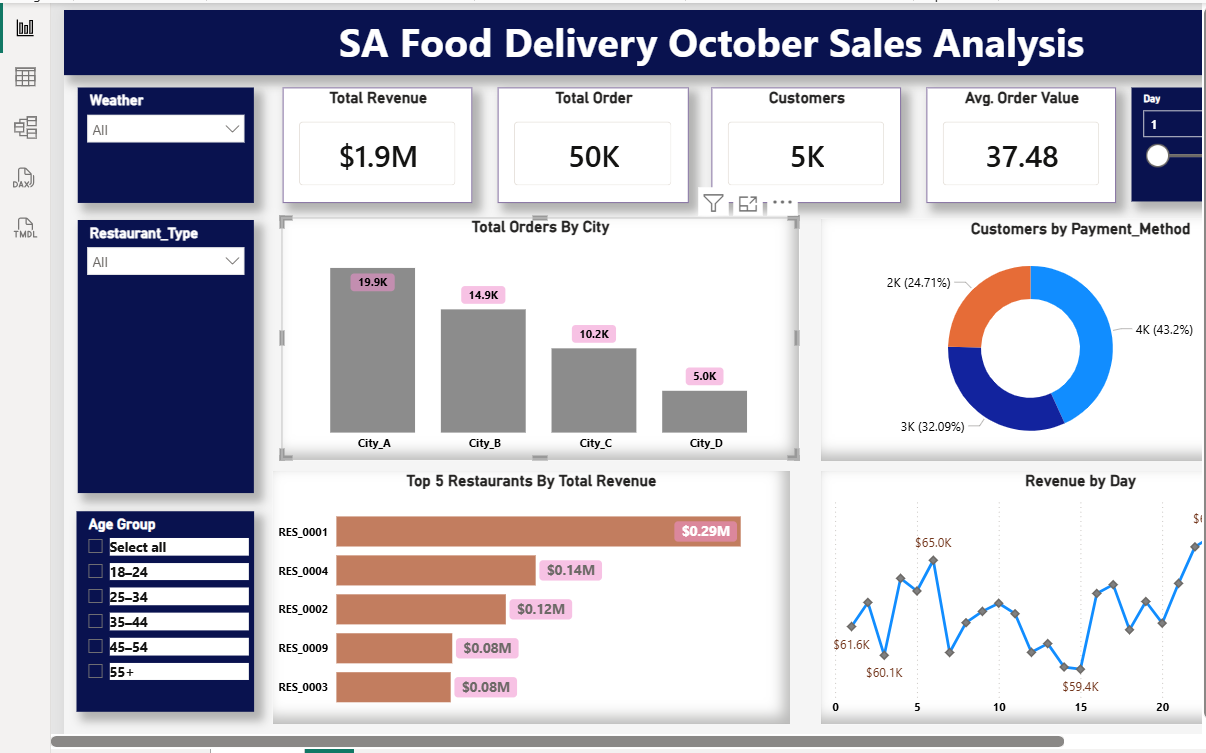

The page's visual inventory and layout, read from the dashboard file:
{"tool":"powerbi","page":{"name":"Page 1","canvas":[1400,800],"ordinal":0},"visuals":[{"type":"textbox","box":[0,0,1400.3,70.5],"z":0},{"type":"cardVisual","title":"Total Revenue","fields":{"Data":["Food Delivery Data.Total Sales"]},"box":[235.9,84.5,205.1,124.7],"z":1000},{"type":"cardVisual","title":"Total Order","fields":{"Data":["Food Delivery Data.Total Orders"]},"box":[469.2,84.5,206.4,124.7],"z":2000},{"type":"cardVisual","title":"Avg. Order Value","fields":{"Data":["Food Delivery Data.Avg. Order Value"]},"box":[933,84.5,205.1,124.7],"z":3000},{"type":"cardVisual","title":"Customers","fields":{"Data":["Food Delivery Data.Unique Customers"]},"box":[699.7,84.5,205.1,124.7],"z":4000},{"type":"slicer","fields":{"Values":["Food Delivery Data.Age Group"]},"box":[13.4,541.6,191.7,217.2],"z":5000},{"type":"slicer","fields":{"Values":["Food Delivery Data.restaurant_type"]},"box":[14.7,226.5,190.3,294.9],"z":6000},{"type":"slicer","fields":{"Values":["Food Delivery Data.weather"]},"box":[14.7,83.1,190.3,124.7],"z":7000},{"type":"columnChart","title":"Total Orders By City","fields":{"Y":["Food Delivery Data.Total Orders"],"Category":["Food Delivery Data.city"]},"box":[234.6,223.9,560.3,262.7],"z":8000},{"type":"barChart","title":"Top 5 Restaurants By Total Revenue","fields":{"Y":["Food Delivery Data.Total Sales"],"Category":["Food Delivery Data.restaurant_id"]},"box":[225.7,498.6,559.5,273],"z":9000},{"type":"lineChart","title":"Revenue by Day","fields":{"Y":["Food Delivery Data.Total Sales"],"Category":["DateTable.Day"]},"box":[819,498.7,560.3,273.5],"z":10000},{"type":"slicer","fields":{"Values":["DateTable.Day"]},"box":[1154.2,84.5,225.2,123.3],"z":11000},{"type":"donutChart","title":"Customers by Payment_Method","fields":{"Y":["Food Delivery Data.Unique Customers"],"Category":["Food Delivery Data.payment_method"]},"box":[819,225.2,560.3,261.4],"z":12000}]}

Visuals, with their boxes on the page's 1400x800 design canvas (x1, y1, x2, y2). These are canvas units, not pixel positions in the 1206x753 screenshot, which may show the page scaled, cropped or inside an application window:
textbox: x1=0, y1=0, x2=1400, y2=70
"Total Revenue" cardVisual: x1=236, y1=84, x2=441, y2=209
"Total Order" cardVisual: x1=469, y1=84, x2=676, y2=209
"Avg. Order Value" cardVisual: x1=933, y1=84, x2=1138, y2=209
"Customers" cardVisual: x1=700, y1=84, x2=905, y2=209
slicer - Food Delivery Data.Age Group: x1=13, y1=542, x2=205, y2=759
slicer - Food Delivery Data.restaurant_type: x1=15, y1=226, x2=205, y2=521
slicer - Food Delivery Data.weather: x1=15, y1=83, x2=205, y2=208
"Total Orders By City" columnChart: x1=235, y1=224, x2=795, y2=487
"Top 5 Restaurants By Total Revenue" barChart: x1=226, y1=499, x2=785, y2=772
"Revenue by Day" lineChart: x1=819, y1=499, x2=1379, y2=772
slicer - DateTable.Day: x1=1154, y1=84, x2=1379, y2=208
"Customers by Payment_Method" donutChart: x1=819, y1=225, x2=1379, y2=487
